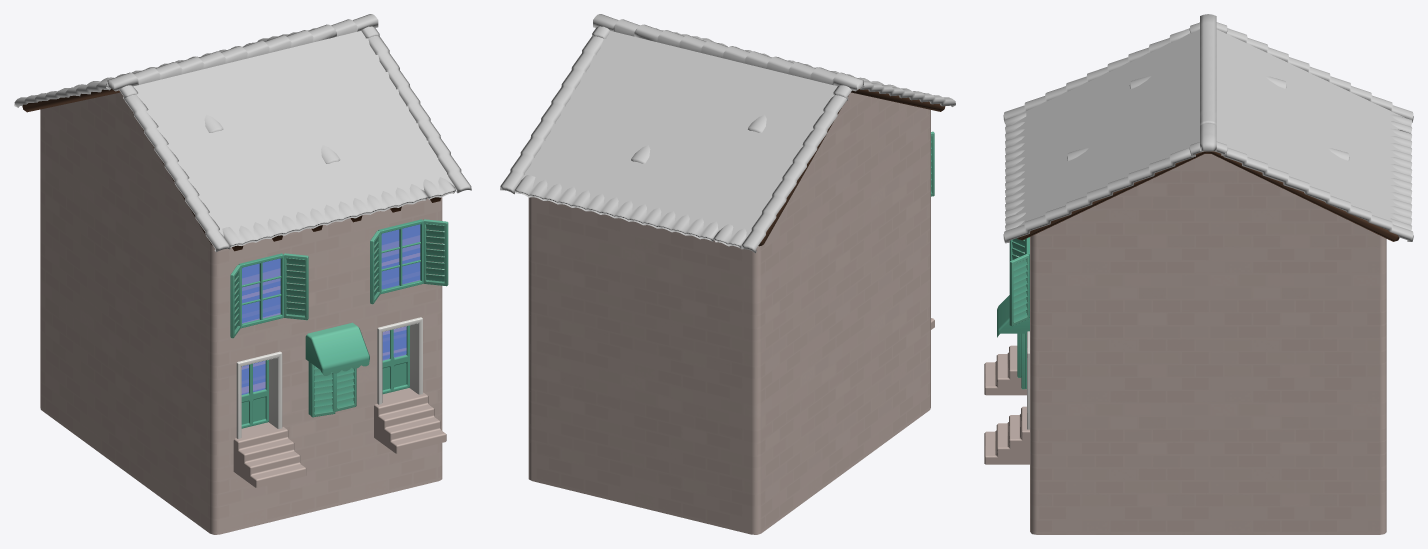
Rendered from Building1.fbx.
3 renders of one model, left to right at view 1: azimuth 30°, elevation 25°; view 2: azimuth 150°, elevation 25°; view 3: azimuth 270°, elevation 25°, orthographic.
Parts seen in each view (by area): view 1: Building1, Building1_Roof, Building1_Attachments_Green, Building1_Window_TopRight, Building1_Window_TopLeft, Building1_Window_BottomRight, Building1_Window_BottomLeft; view 2: Building1, Building1_Roof; view 3: Building1, Building1_Roof, Building1_Attachments_Green.
Boxes of the visible parts, bbox=[...] form: Building1: bbox=[40, 92, 446, 534]; Building1_Roof: bbox=[14, 14, 471, 252]; Building1_Attachments_Green: bbox=[230, 219, 448, 428]; Building1_Window_TopRight: bbox=[381, 224, 420, 289]; Building1_Window_TopLeft: bbox=[242, 258, 280, 323]; Building1_Window_BottomRight: bbox=[382, 326, 406, 360]; Building1_Window_BottomLeft: bbox=[241, 360, 265, 394]; Building1: bbox=[528, 92, 934, 534]; Building1_Roof: bbox=[500, 14, 955, 253]; Building1: bbox=[984, 154, 1386, 534]; Building1_Roof: bbox=[1003, 14, 1413, 243]; Building1_Attachments_Green: bbox=[997, 237, 1029, 389].
Bounding box in the file's own units: 868 × 1242 × 1203.
